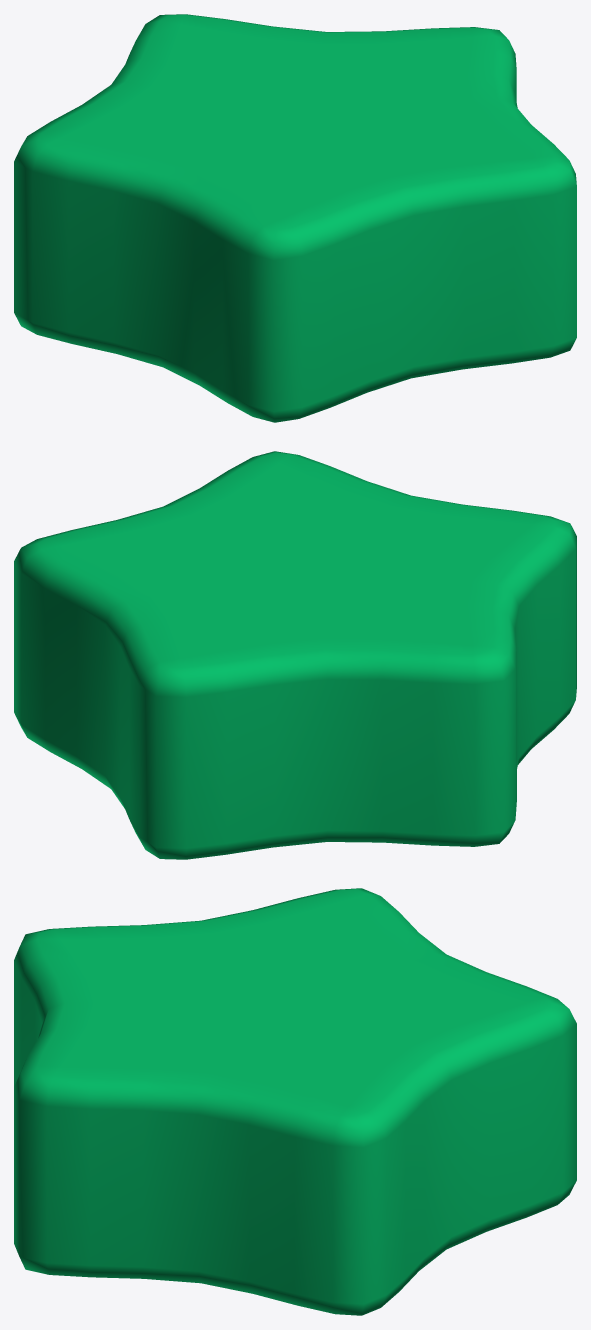
Rendered from Store_9_Pouf_Star_1.glb.
3 views of the same model, one above another, from view 1: azimuth 30°, elevation 25°; view 2: azimuth 150°, elevation 25°; view 3: azimuth 270°, elevation 25° (orthographic). The views are drawn at different scales.
Parts seen in each view (by area): view 1: Store_9_Pouf_Star_1; view 2: Store_9_Pouf_Star_1; view 3: Store_9_Pouf_Star_1.
Boxes of the visible parts, box(x1,y1,x2,y2) form: Store_9_Pouf_Star_1: box(14, 14, 576, 422); Store_9_Pouf_Star_1: box(14, 451, 576, 859); Store_9_Pouf_Star_1: box(14, 888, 576, 1315).
Bounding box in the file's own units: 0.7419 × 0.2765 × 0.7124.
1 material, 1 textured.
